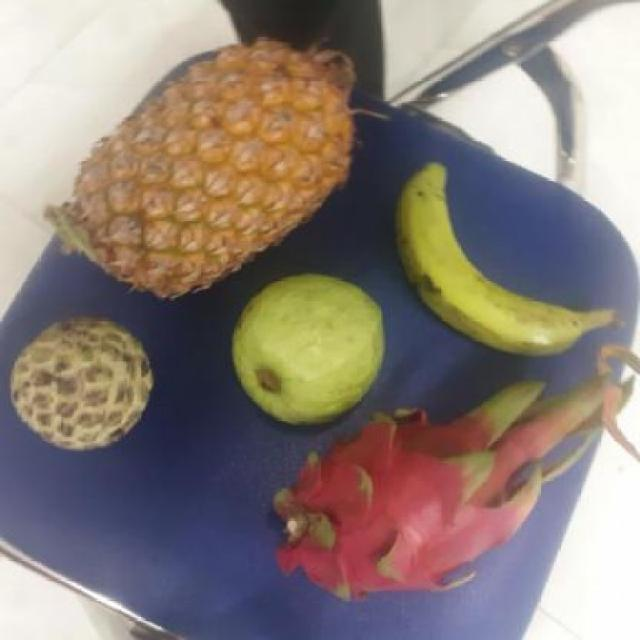dragon fruit: (276, 397, 544, 601)
guava: (232, 281, 390, 425)
pineapple: (59, 37, 364, 292)
sugar apple: (10, 318, 158, 449)
